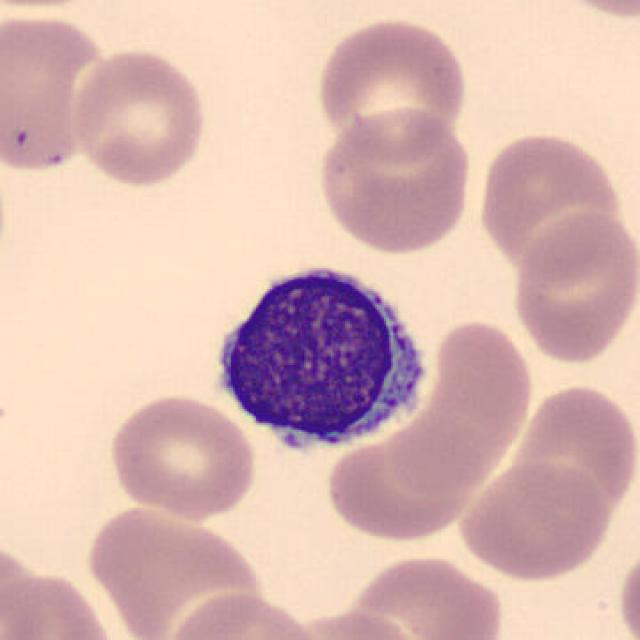Lymphocyte: (199, 250, 439, 462)
RBC: (80, 502, 268, 640), (313, 104, 476, 257), (473, 127, 627, 279), (313, 12, 471, 160), (507, 206, 638, 367), (69, 44, 210, 190), (105, 390, 259, 522), (455, 458, 615, 582), (322, 421, 480, 545), (508, 379, 638, 524), (0, 9, 112, 176), (342, 550, 508, 640), (428, 316, 537, 430), (0, 564, 119, 640), (160, 587, 322, 640), (281, 606, 425, 640), (615, 537, 640, 640), (535, 0, 640, 21)
